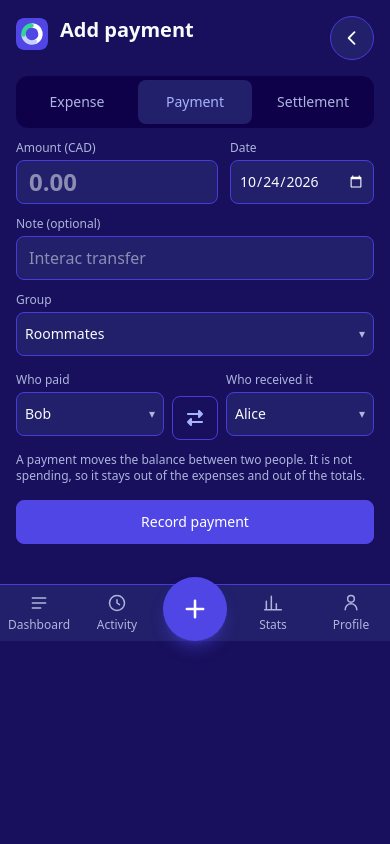
Test: recording a payment › says which way the balance will move before it moves
Type "50" into the field with test id "amount". click: (117,182)
box: [16,160,218,204]
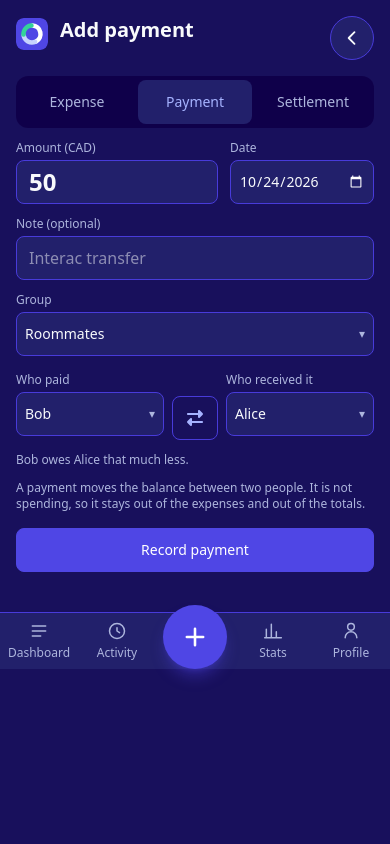
Expected: the text with test id "payment-effect" reads "Bob owes Alice that much less.", [16,451,189,468]
